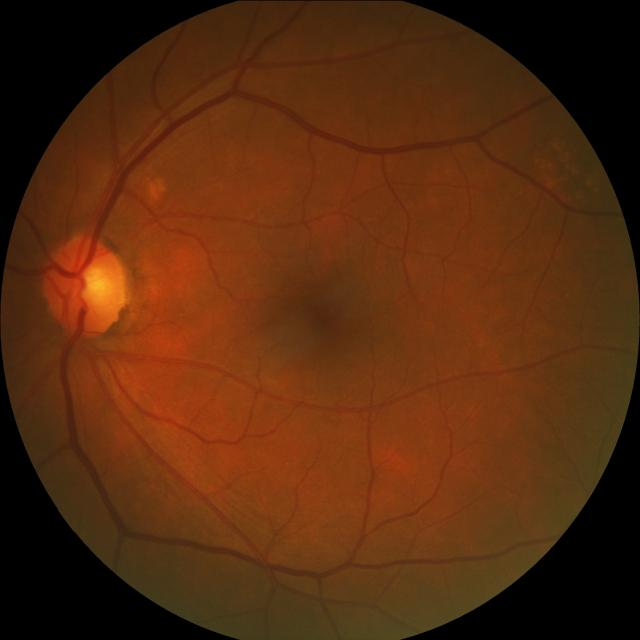OC: (71, 263, 112, 306)
OD: (44, 234, 130, 336)
